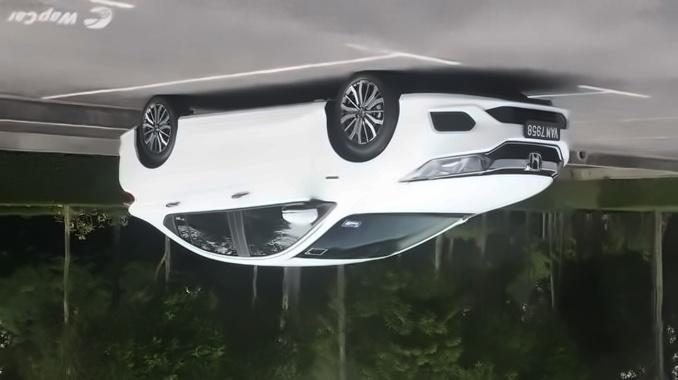Car hood: (353, 173, 553, 215)
Fender - -F-L-: (322, 103, 398, 210)
Fender - -R-L-: (127, 115, 184, 233)
Front bumper: (392, 84, 572, 168)
Headlight - -L-: (399, 153, 496, 183)
Passenger-s door - -F-L-: (228, 92, 343, 268)
Passenger-s door - -R-L-: (153, 96, 244, 268)
Rear bumper: (114, 123, 141, 163)
Side bumper - -L-: (175, 88, 336, 149)
Side mirror - -L-: (281, 199, 336, 228)
